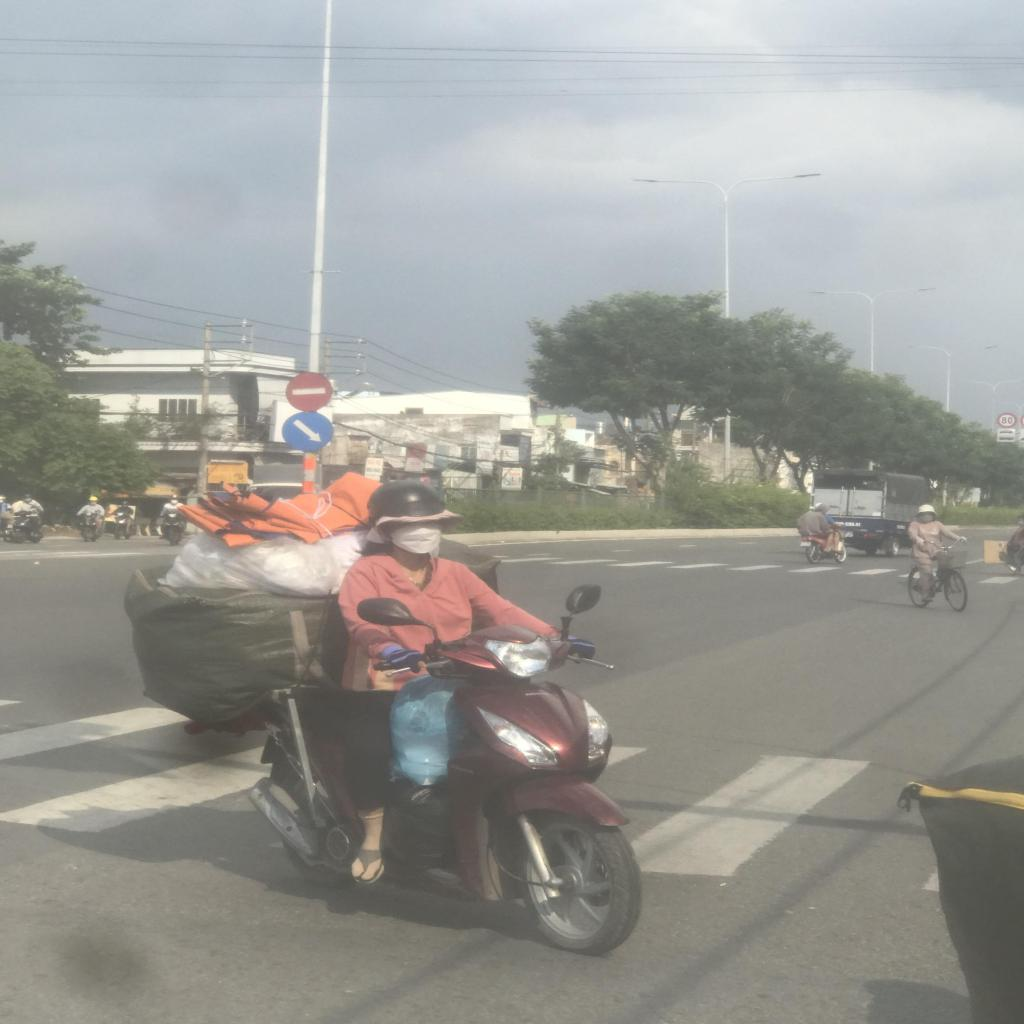cam_xe_di_nguoc_chieu: (286, 371, 331, 411)
huong_phai_di_vuot_chuong_ngai_vat_phai: (282, 410, 336, 450)
khac: (997, 434, 1014, 442), (998, 429, 1015, 435)
toc_do_toi_da_80: (996, 413, 1018, 428)
